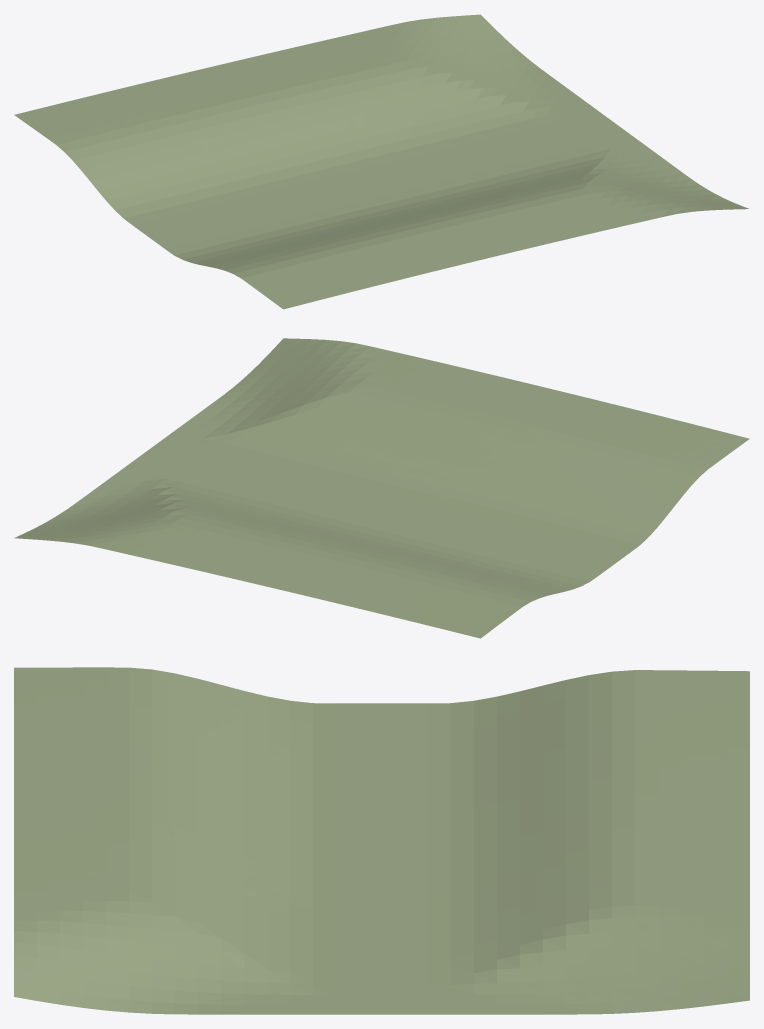
File: gardens-4-5.glb
3 renders of one model, top to bottom at view 1: azimuth 30°, elevation 25°; view 2: azimuth 150°, elevation 25°; view 3: azimuth 270°, elevation 25°, orthographic. The views are drawn at different scales.
Parts seen in each view (by area): view 1: gardens-4-5; view 2: gardens-4-5; view 3: gardens-4-5.
Boxes of the visible parts, x1,y1,x2,y2 form: gardens-4-5: [14, 14, 748, 309]; gardens-4-5: [14, 338, 749, 638]; gardens-4-5: [14, 667, 749, 1014].
Bounding box in the file's own units: 256 × 14.47 × 256.
